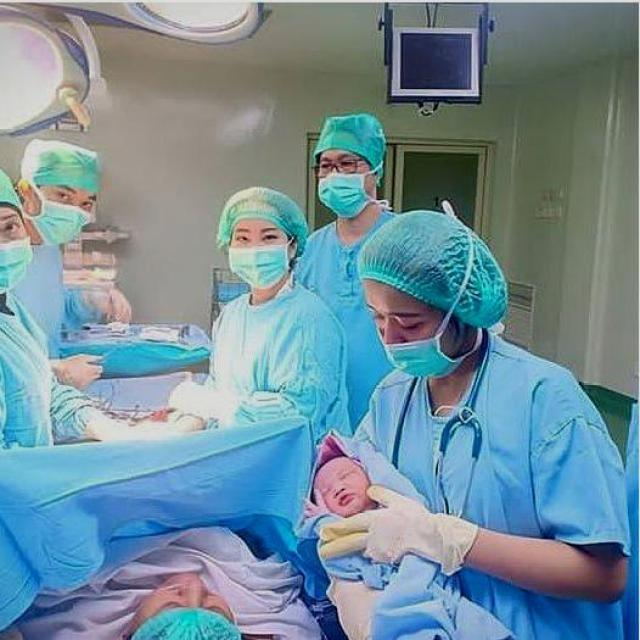hairnet: (351, 208, 508, 384)
